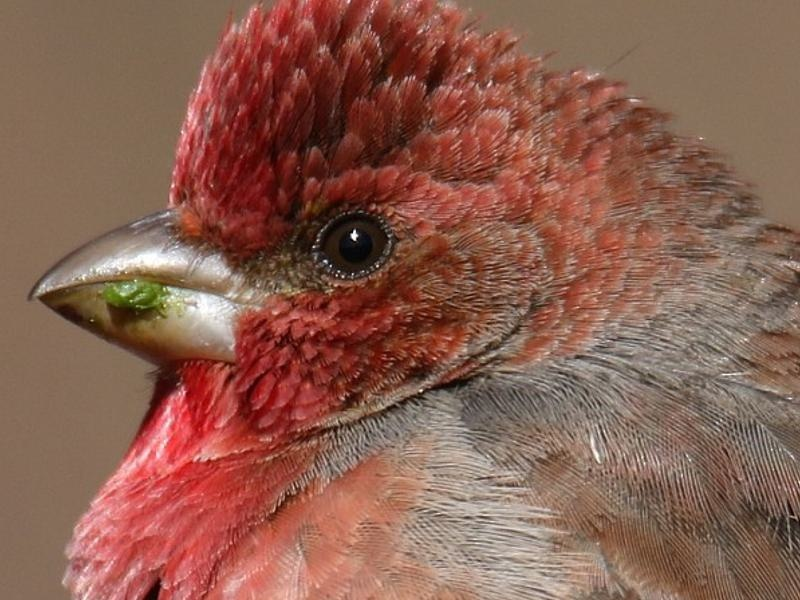rosefinch: (37, 16, 745, 600)
